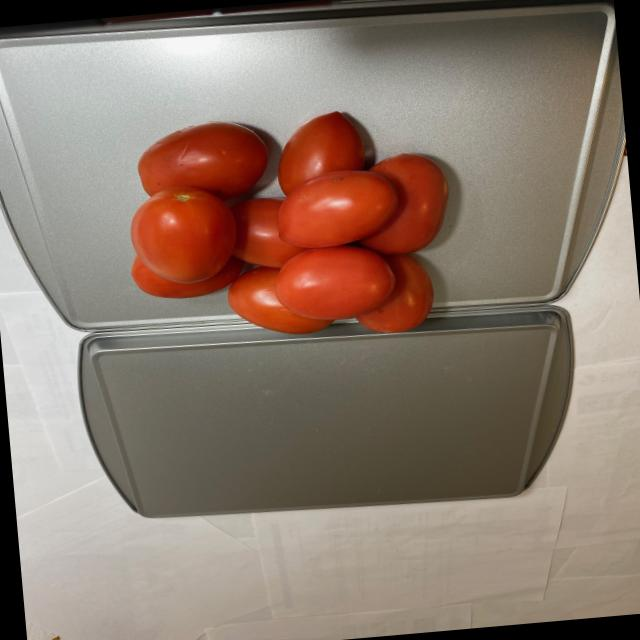tomato: (116, 95, 470, 358)
